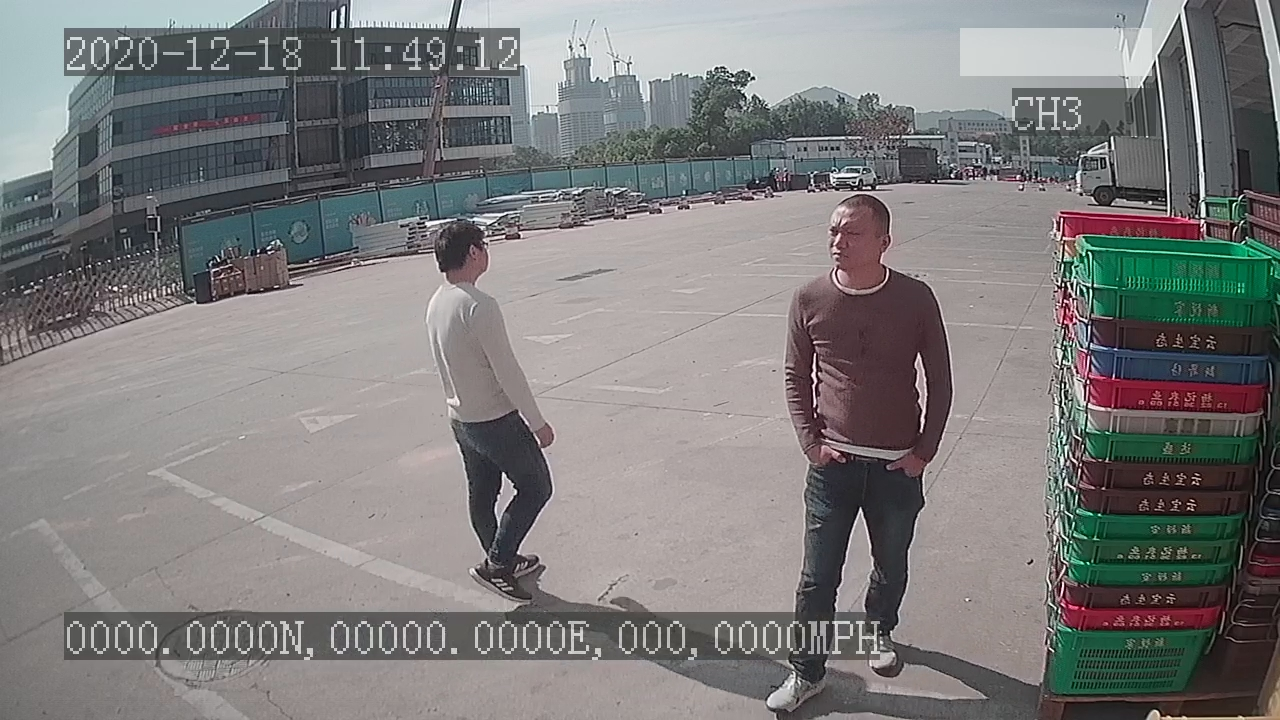person: (420, 217, 558, 604)
